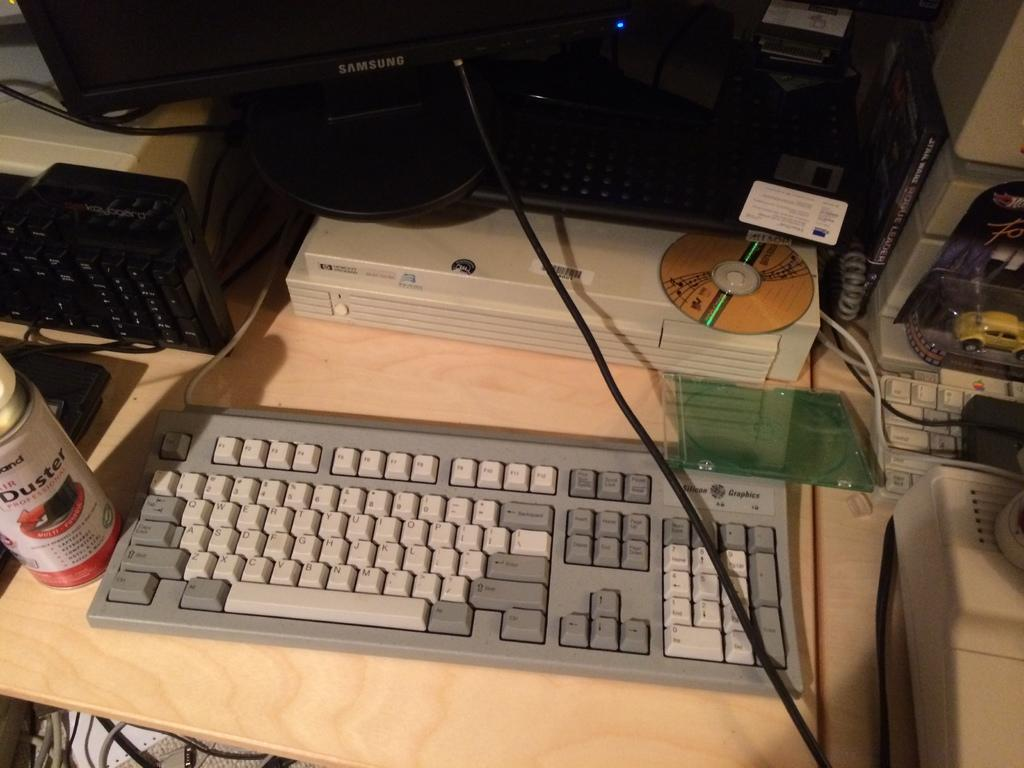Computer-keyboard: (87, 401, 809, 700), (463, 119, 834, 252), (0, 161, 230, 357)
Computer-monitor: (31, 3, 614, 225)
